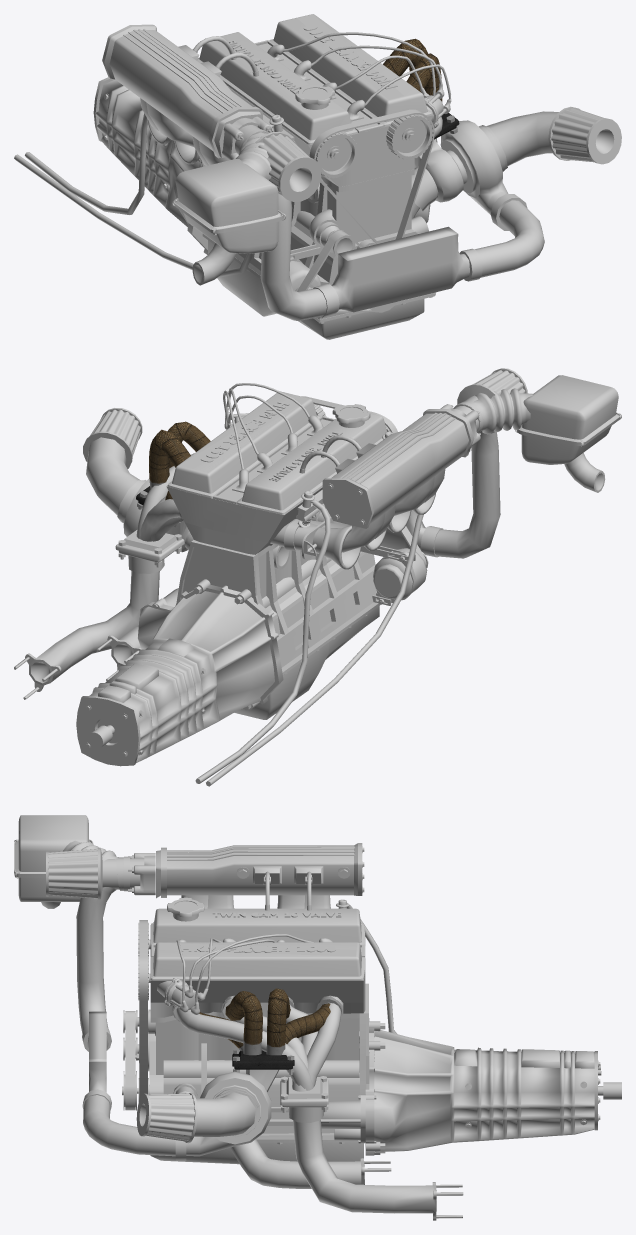
Rendered from Enginei4.FBX.
3 renders of one model, top to bottom at view 1: azimuth 30°, elevation 25°; view 2: azimuth 150°, elevation 25°; view 3: azimuth 270°, elevation 25°, orthographic. The views are drawn at different scales.
Parts seen in each view (by area): view 1: IntakeManifold, AirFilter1, CylinderHeadCover3, TurboIntercooler, TurboAirIntakePipe, EngineBlock, CylinderHeadCover2, Gearbox, AirFilter3, Turbocharger, OilPan, FuelPipes (+14 smaller); view 2: Gearbox, EngineBlock, IntakeManifold, AirFilter1, ExhaustManifold, CylinderHeadCover3, CylinderHeadCover2, CylinderHead, TurboAirIntakePipe, AirFilter3, FuelPipes, OilPan (+10 smaller); view 3: Gearbox, IntakeManifold, EngineBlock, ExhaustManifold, CylinderHeadCover3, TurboAirIntakePipe, CylinderHeadCover2, ExhaustManifoldTurbo, AirFilter3, CylinderHead, AirFilter1, AirFilter2 (+9 smaller).
Boxes of the visible parts, x1,y1,x2,y2 form: IntakeManifold: [102, 24, 271, 165]; AirFilter1: [172, 132, 286, 285]; CylinderHeadCover3: [197, 14, 432, 144]; TurboIntercooler: [331, 226, 469, 312]; TurboAirIntakePipe: [245, 132, 544, 320]; EngineBlock: [187, 159, 435, 319]; CylinderHeadCover2: [198, 14, 425, 144]; Gearbox: [93, 77, 199, 227]; AirFilter3: [481, 106, 621, 169]; Turbocharger: [414, 120, 508, 214]; OilPan: [202, 234, 435, 339]; FuelPipes: [14, 113, 272, 277]; Gearbox: [76, 582, 274, 766]; EngineBlock: [140, 540, 378, 706]; IntakeManifold: [283, 404, 480, 552]; AirFilter1: [458, 375, 621, 492]; ExhaustManifold: [14, 453, 193, 699]; CylinderHeadCover3: [167, 391, 386, 514]; CylinderHeadCover2: [169, 391, 380, 514]; CylinderHead: [166, 486, 322, 554]; TurboAirIntakePipe: [420, 400, 500, 558]; AirFilter3: [83, 408, 143, 522]; FuelPipes: [195, 500, 423, 786]; OilPan: [234, 603, 380, 719]; Gearbox: [374, 1021, 600, 1154]; IntakeManifold: [128, 843, 364, 910]; EngineBlock: [149, 983, 376, 1155]; ExhaustManifold: [173, 996, 463, 1220]; CylinderHeadCover3: [150, 897, 364, 980]; TurboAirIntakePipe: [76, 857, 186, 1160]; CylinderHeadCover2: [150, 908, 365, 977]; ExhaustManifoldTurbo: [172, 988, 341, 1074]; AirFilter3: [136, 1089, 257, 1143]; CylinderHead: [150, 946, 365, 1017]; AirFilter1: [14, 815, 130, 908]; AirFilter2: [46, 847, 129, 899].
Bounding box in the file's own units: 49.64 × 28.27 × 58.89.
